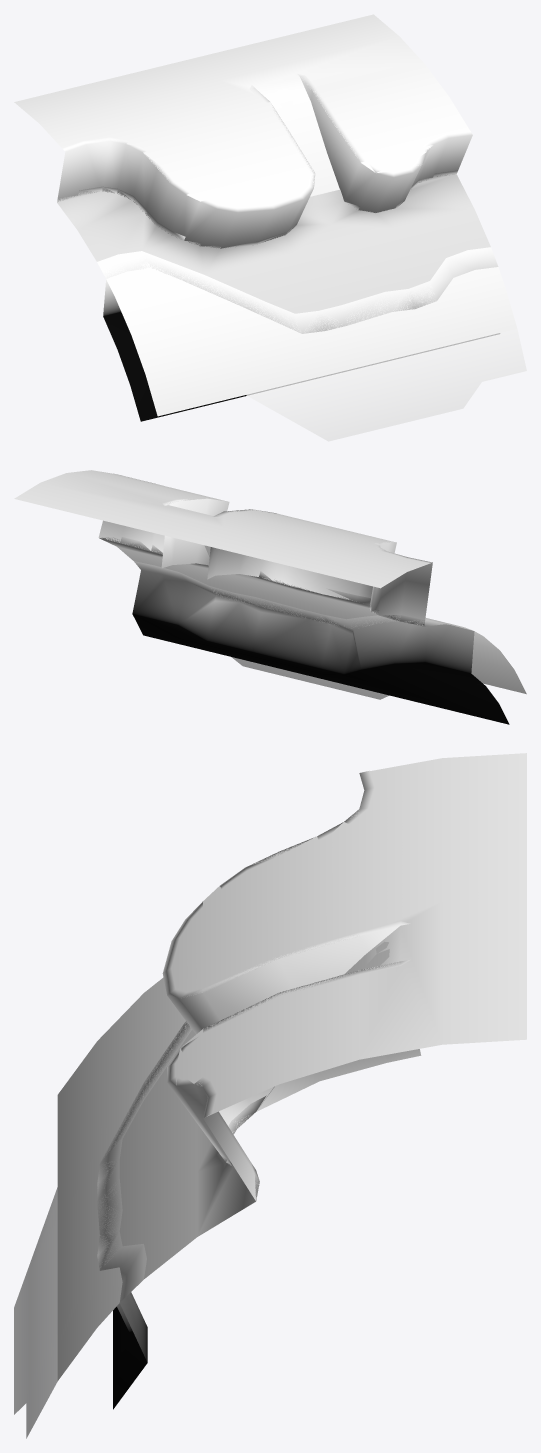
Rendered from grd_Msw_s_S_2.dae.
3 renders of one model, top to bottom at view 1: azimuth 30°, elevation 25°; view 2: azimuth 150°, elevation 25°; view 3: azimuth 270°, elevation 25°, orthographic. The views are drawn at different scales.
Visible parts, largest first — view 1: grd_Msw_s_S_2; view 2: grd_Msw_s_S_2; view 3: grd_Msw_s_S_2.
Boxes of the visible parts, box(x1,y1,x2,y2) form: grd_Msw_s_S_2: box(14, 14, 526, 441); grd_Msw_s_S_2: box(14, 470, 526, 724); grd_Msw_s_S_2: box(14, 753, 526, 1438).
Size of the model in its own units: 512 by 357 by 387.
Materials: 7 (1 with a texture image).
